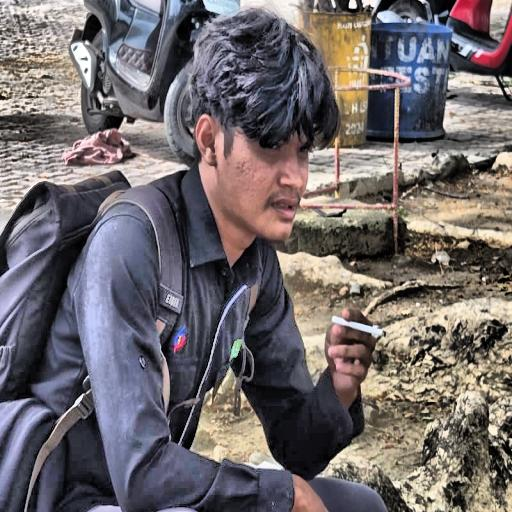Asbak: (332, 317, 384, 338)
Merokok: (194, 10, 337, 265), (324, 308, 380, 405)
